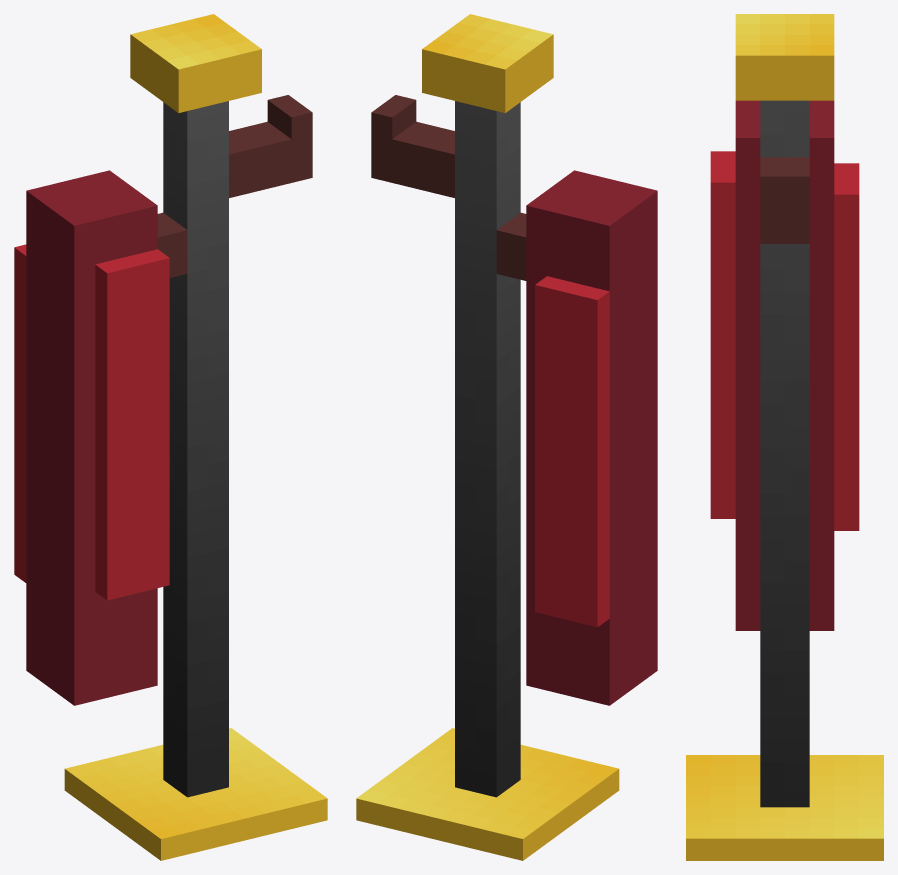
File: CoatHanger.fbx
3 views of the same model, side by side, from view 1: azimuth 30°, elevation 25°; view 2: azimuth 150°, elevation 25°; view 3: azimuth 270°, elevation 25° (orthographic). The views are drawn at different scales.
Visible parts, largest first — view 1: cube_7, cube_1, cube_9, cube, cube_2, cube_8, cube_3, cube_4, cube_5; view 2: cube_1, cube_7, cube_8, cube, cube_2, cube_3, cube_4, cube_5; view 3: cube_1, cube_7, cube, cube_8, cube_9, cube_2, cube_4, cube_3.
Part boxes in pixels (x1,y1,x2,y2): cube_7: [26, 170, 157, 705]; cube_1: [163, 101, 228, 797]; cube_9: [95, 249, 169, 600]; cube: [64, 728, 327, 860]; cube_2: [130, 14, 261, 112]; cube_8: [14, 244, 26, 582]; cube_3: [229, 121, 291, 197]; cube_4: [267, 95, 312, 182]; cube_5: [157, 212, 187, 277]; cube_1: [455, 101, 520, 797]; cube_7: [526, 170, 657, 705]; cube_8: [535, 276, 609, 627]; cube: [356, 728, 619, 860]; cube_2: [422, 14, 553, 112]; cube_3: [392, 121, 454, 197]; cube_4: [371, 95, 416, 182]; cube_5: [496, 212, 526, 280]; cube_1: [760, 100, 809, 807]; cube_7: [735, 100, 834, 630]; cube: [686, 755, 883, 860]; cube_8: [834, 163, 859, 530]; cube_9: [710, 151, 735, 518]; cube_2: [735, 14, 834, 100]; cube_4: [760, 166, 809, 243]; cube_3: [760, 157, 809, 166].
Size of the model in its own units: 75 by 219 by 50.
Materials: 1 (1 with a texture image).
